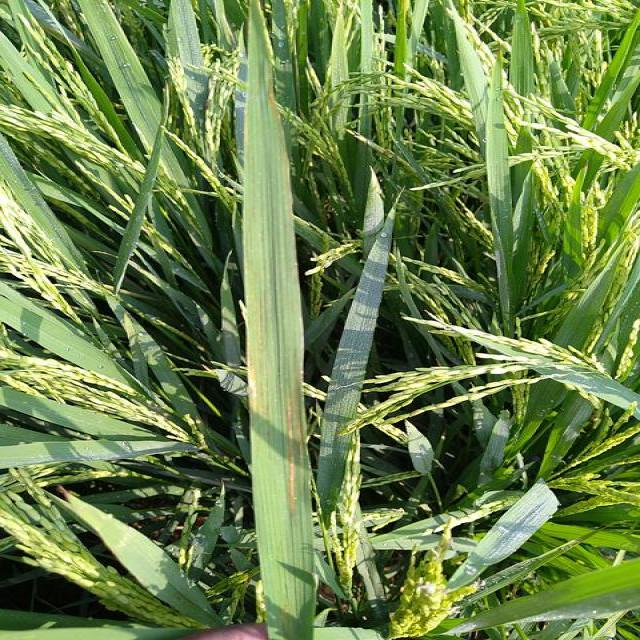Leaf Streak: (247, 0, 315, 639)
